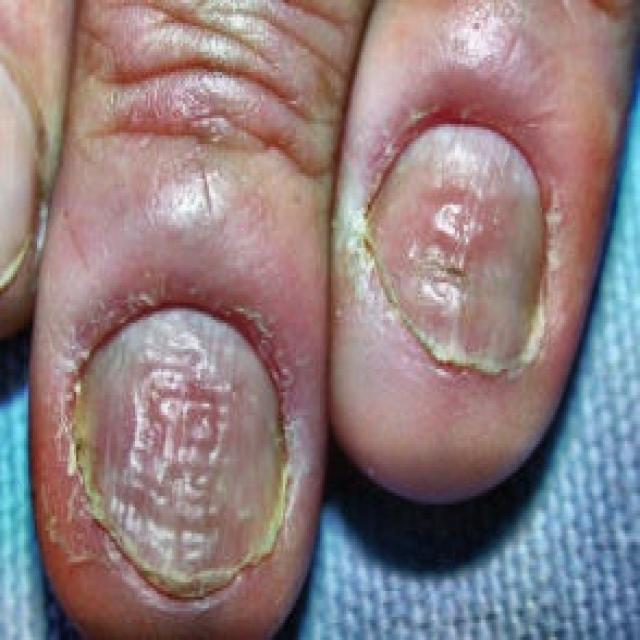Tinea Ringworm Candidiasis and other Fungal Infections: (346, 2, 573, 443), (86, 288, 287, 600)
